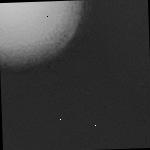colony: (0, 0, 96, 73)
